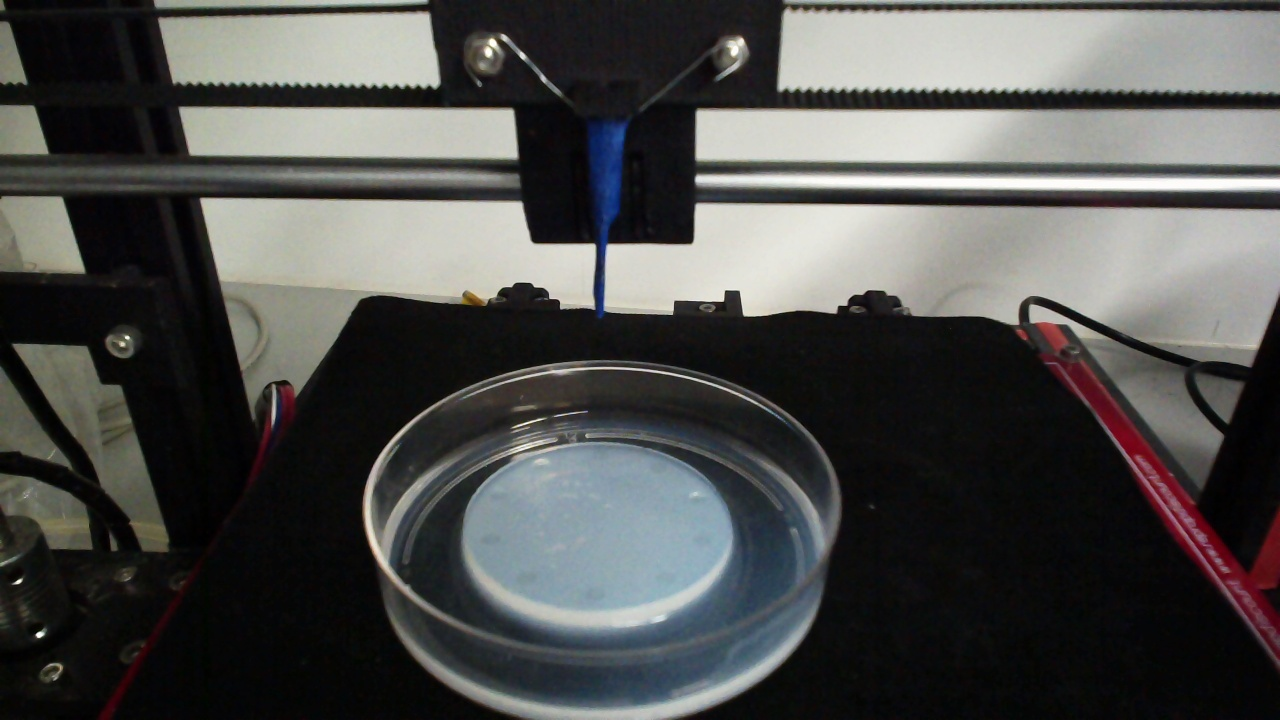groove: (512, 570, 539, 588), (582, 584, 605, 601), (479, 531, 502, 547), (690, 534, 713, 550), (654, 571, 678, 586), (486, 488, 509, 503), (646, 461, 670, 475), (589, 450, 612, 464), (531, 458, 553, 472), (686, 491, 708, 505)
needle: (588, 120, 625, 318)
